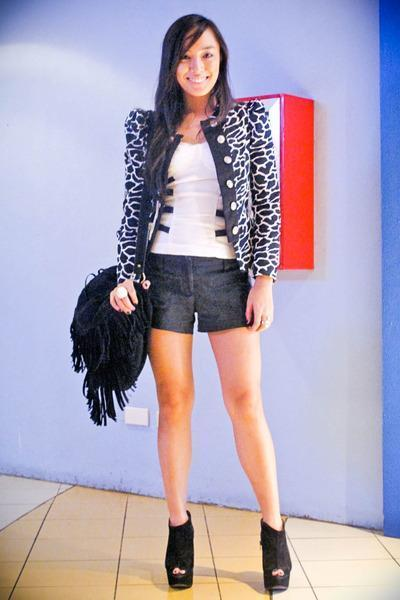bag: (70, 266, 151, 421)
jacket: (97, 100, 280, 279)
shirt: (156, 141, 226, 257)
shoe: (165, 516, 291, 599)
shorts: (128, 253, 260, 333)
